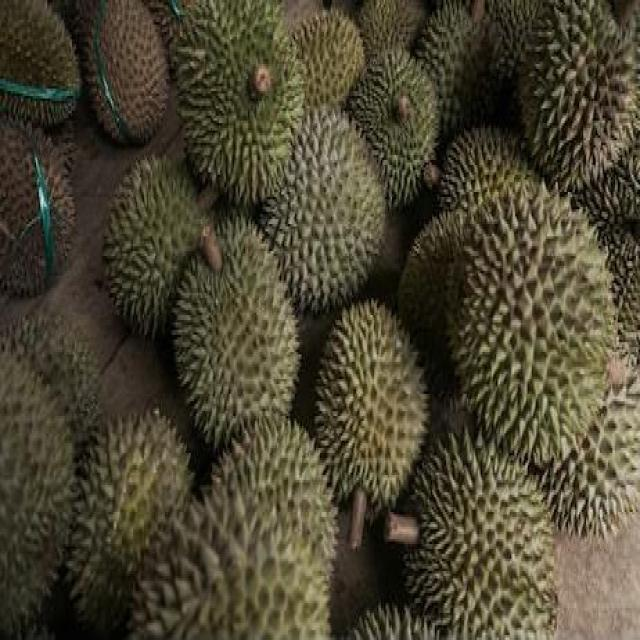mature: (89, 0, 168, 143)
